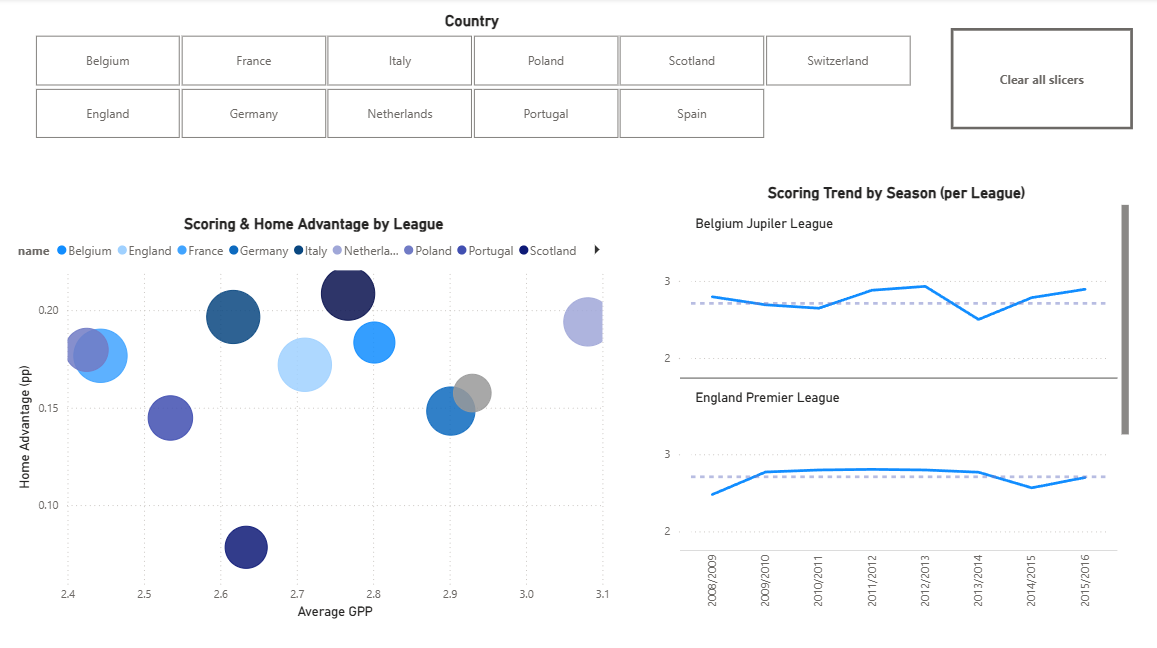

What the dashboard file says about the page in this screenshot:
{"tool":"powerbi","page":{"name":"League Comparison Vol2","canvas":[1280,720],"ordinal":3},"visuals":[{"type":"slicer","title":"Country","fields":{"Values":["Country.name"]},"box":[17.1,15.7,1010,145.7],"z":0},{"type":"actionButton","box":[1047.1,32.9,200,111.4],"z":1000},{"type":"scatterChart","title":"Scoring & Home Advantage by League","fields":{"X":["Measures – Core.Avg Goals per Match"],"Y":["Measures – Core.Home Advantage (pp)"],"Size":["Measures – Core.Matches (distinct)"],"Series":["Country.name"]},"box":[17.8,237.4,660,448.7],"z":2000},{"type":"lineChart","title":"Scoring Trend by Season (per League)","fields":{"Category":["TeamMatchFact.season"],"Y":["Measures – Core.Avg Goals per Match"],"Rows":["League.name"]},"box":[727.1,202.9,520,482.9],"z":3000}]}

Visuals, with their boxes in screenshot pixels (x1, y1, x2, y2), scaled from the page's 1280x720 canvas onto the 1157x648 screenshot:
"Country" slicer: detection(15, 14, 928, 145)
actionButton: detection(946, 30, 1127, 130)
"Scoring & Home Advantage by League" scatterChart: detection(16, 214, 613, 617)
"Scoring Trend by Season (per League)" lineChart: detection(657, 183, 1127, 617)
